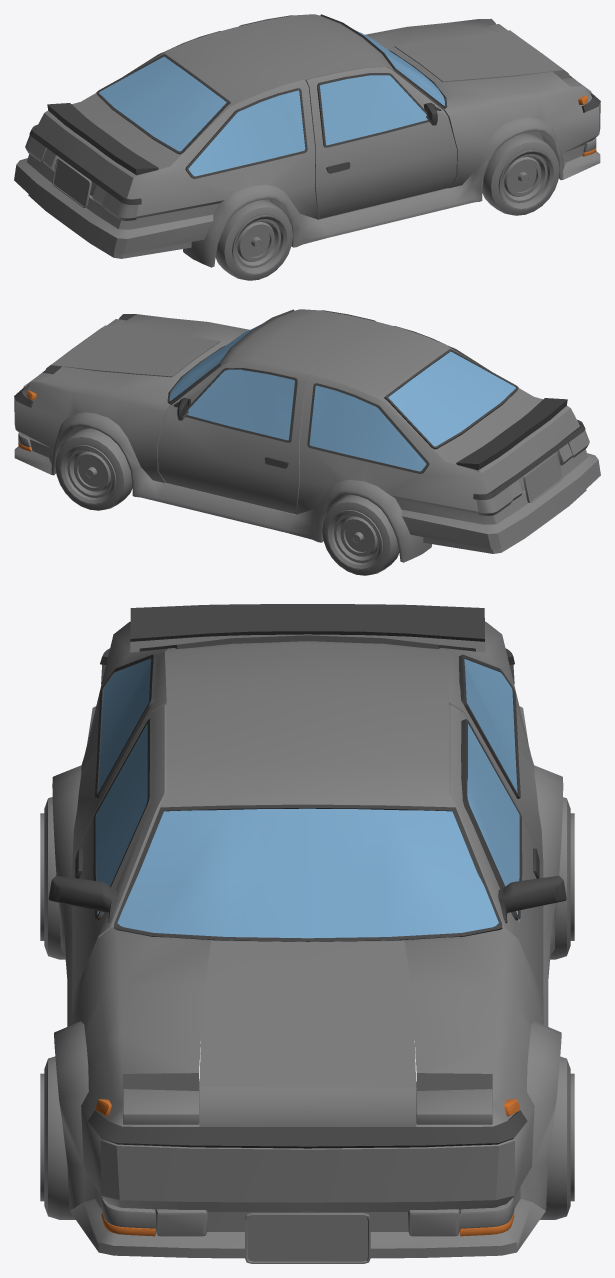
File: SM_car_japan_03.fbx
The picture shows the model from 3 angles, top to bottom: view 1: azimuth 30°, elevation 25°; view 2: azimuth 150°, elevation 25°; view 3: azimuth 270°, elevation 25°; orthographic projection. The views are drawn at different scales.
Visible parts, largest first — view 1: Box414, Cylinder107; view 2: Box414, Cylinder107; view 3: Box414, Cylinder107.
Boxes of the visible parts, x1,y1,x2,y2 form: Box414: (14, 14, 600, 267); Cylinder107: (215, 133, 559, 280); Box414: (14, 309, 600, 562); Cylinder107: (55, 428, 399, 575); Box414: (48, 604, 566, 1263); Cylinder107: (40, 797, 574, 1219).
Size of the model in its own units: 4463 by 1414 by 2076.
